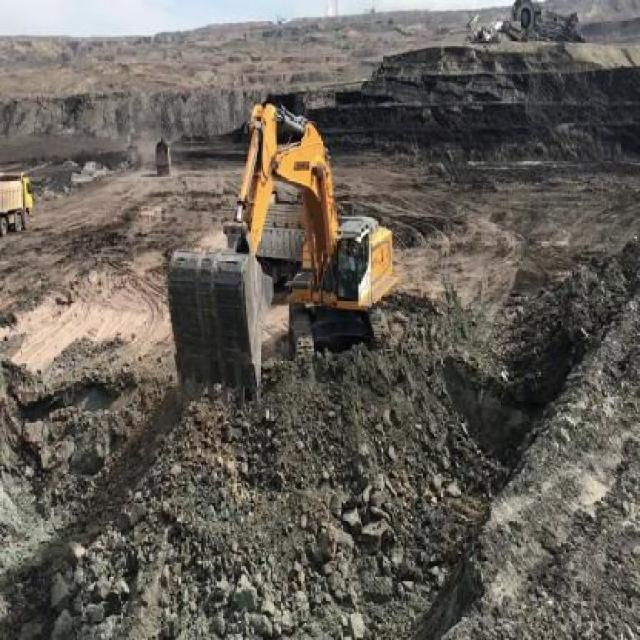Dump Truck: (1, 168, 28, 227), (156, 136, 167, 173)
Excavator: (167, 76, 402, 424)
